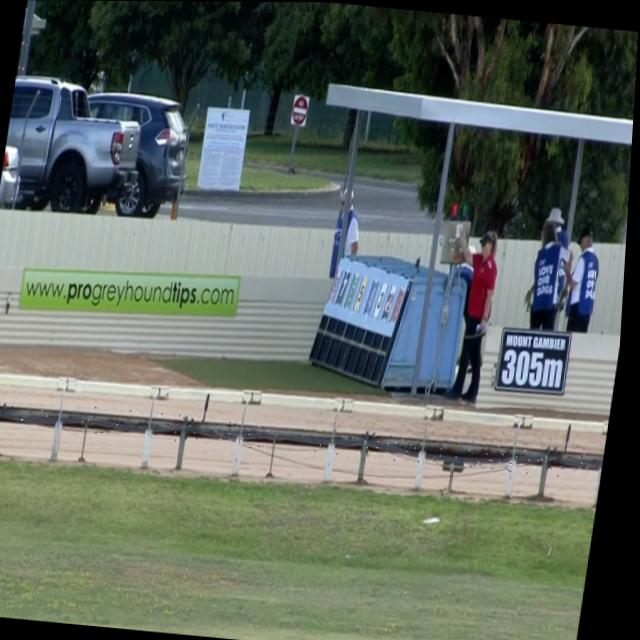rail: (0, 402, 608, 471)
